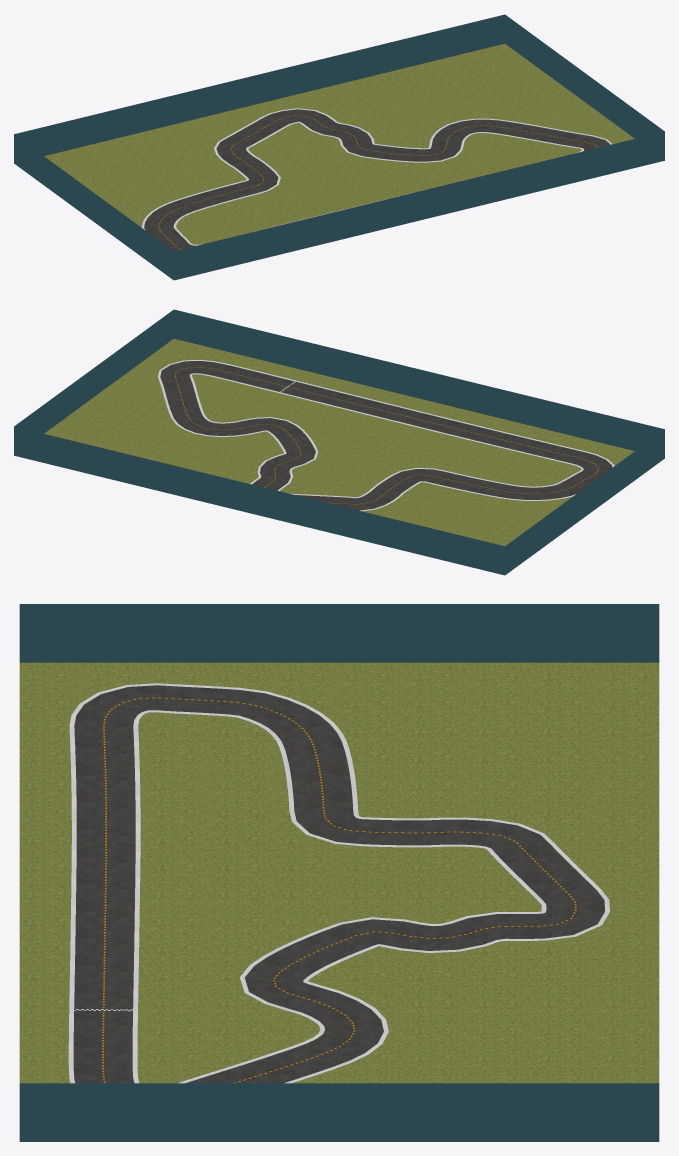
File: dubai_open_cw.dae
The picture shows the model from 3 angles, top to bottom: view 1: azimuth 30°, elevation 25°; view 2: azimuth 150°, elevation 25°; view 3: azimuth 270°, elevation 25°; orthographic projection. The views are drawn at different scales.
Parts seen in each view (by area): view 1: field, wall, road, ol, il; view 2: field, wall, road, ol, il, cl; view 3: field, wall, road, il, ol, cl.
Boxes of the visible parts, x1,y1,x2,y2 form: field: (44, 43, 634, 244); wall: (14, 14, 664, 280); road: (144, 109, 610, 251); ol: (173, 121, 584, 245); il: (141, 108, 612, 230); field: (44, 338, 634, 546); wall: (14, 309, 664, 575); road: (160, 361, 612, 510); ol: (189, 373, 583, 498); il: (158, 359, 614, 511); cl: (175, 367, 598, 504); field: (19, 662, 659, 1083); wall: (19, 604, 659, 1141); road: (73, 685, 604, 1083); il: (68, 683, 609, 1083); ol: (132, 710, 546, 1083); cl: (102, 697, 576, 1083).
Bounding box in the file's own units: 17.59 × 9.92 × 1.
7 materials, 7 textured.
